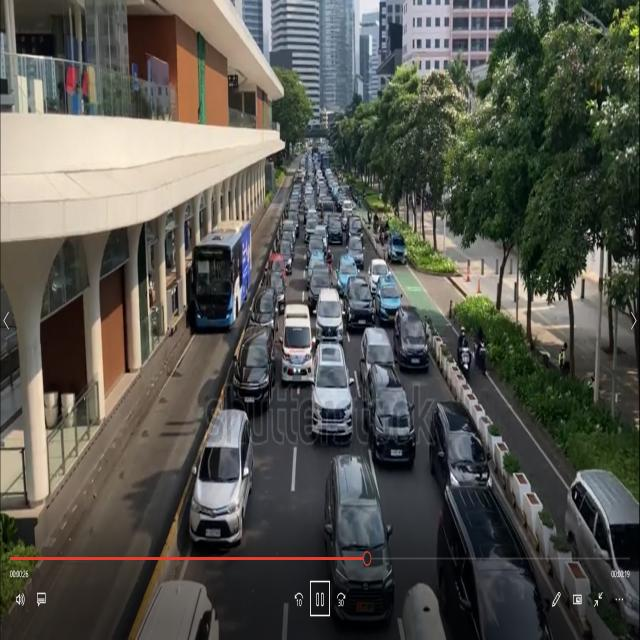Ambulance: (278, 297, 316, 403)
